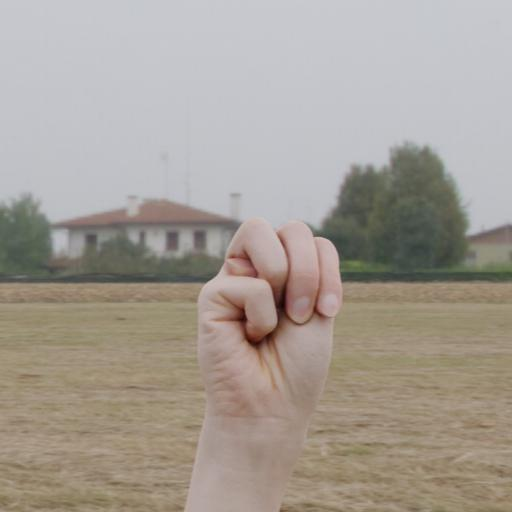M: (190, 204, 368, 446)
